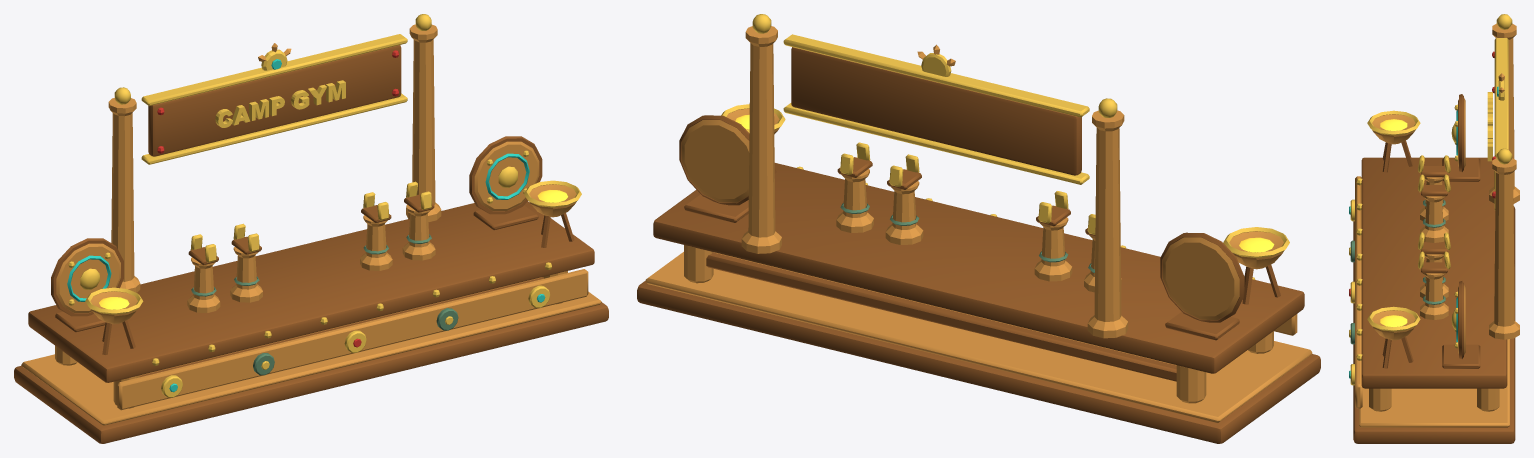
Rendered from st_03_bronze.glb.
3 renders of one model, left to right at view 1: azimuth 30°, elevation 25°; view 2: azimuth 150°, elevation 25°; view 3: azimuth 270°, elevation 25°, orthographic. The views are drawn at different scales.
Parts seen in each view (by area): view 1: st_03_bronze; view 2: st_03_bronze; view 3: st_03_bronze.
Boxes of the visible parts, box(x1,y1,x2,y2) form: st_03_bronze: box(14, 14, 608, 443); st_03_bronze: box(637, 14, 1320, 443); st_03_bronze: box(1349, 14, 1519, 443).
Size of the model in its own units: 10 by 5.29 by 3.17.
